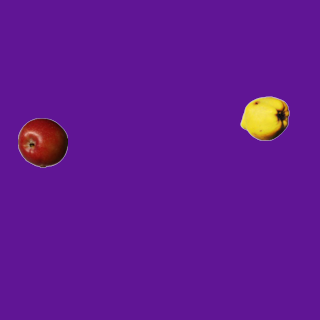Apple Braeburn: (17, 117, 67, 167)
Quince: (239, 93, 289, 143)
